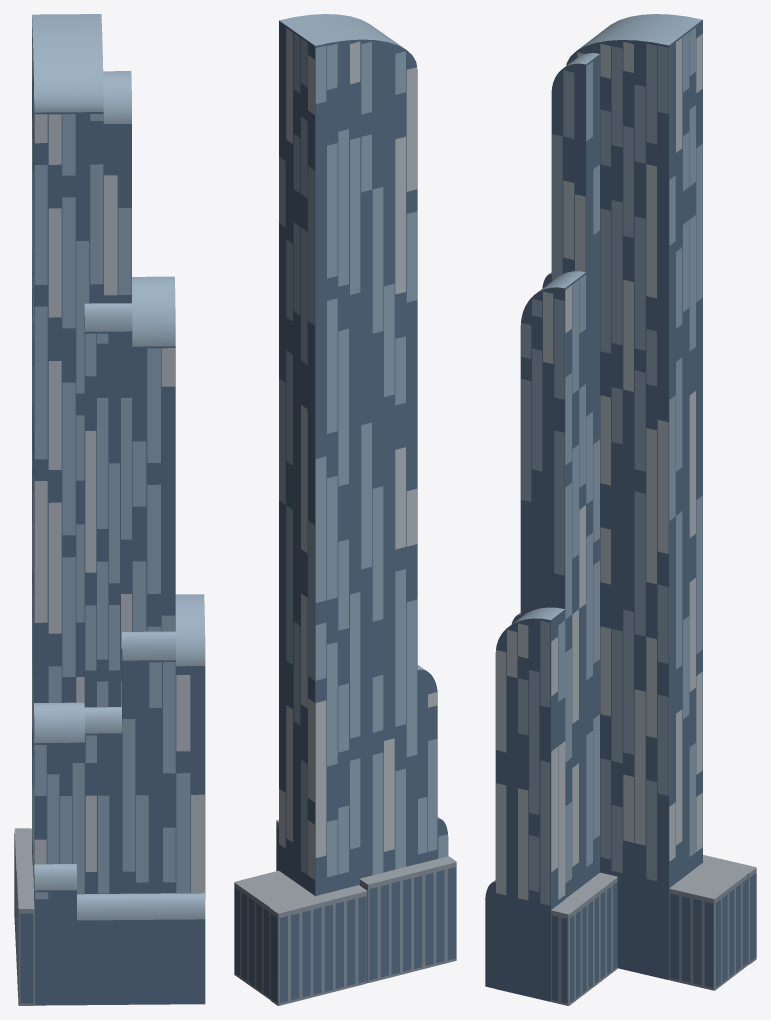
3 views of the same model, side by side, from view 1: azimuth 30°, elevation 25°; view 2: azimuth 150°, elevation 25°; view 3: azimuth 270°, elevation 25° (orthographic).
Parts seen in each view (by area): view 1: one57-new-york; view 2: one57-new-york; view 3: one57-new-york.
Boxes of the visible parts, <box> form: one57-new-york: <box>14,14,205,1005</box>; one57-new-york: <box>234,14,456,1005</box>; one57-new-york: <box>485,14,756,1005</box>.
Bounding box in the file's own units: 62.56 × 306 × 80.54.
